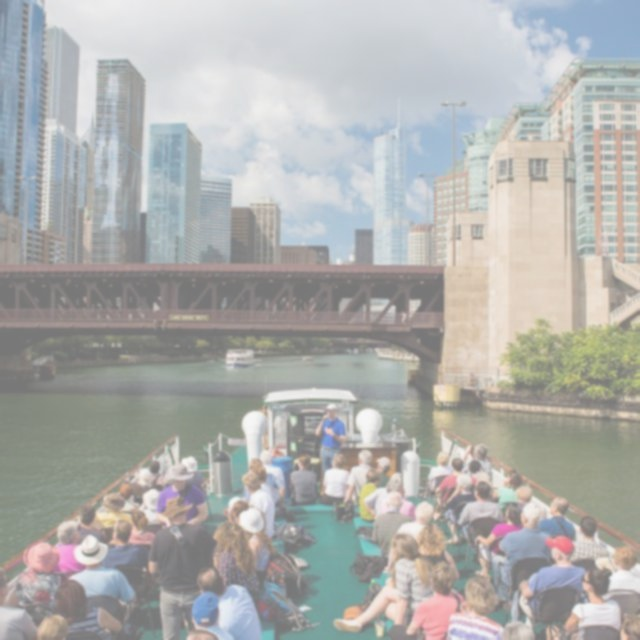pessoa: (332, 530, 439, 635), (146, 496, 219, 638), (486, 500, 554, 610), (510, 534, 588, 626), (545, 564, 625, 638), (66, 534, 140, 610), (194, 564, 266, 638), (404, 560, 468, 638), (52, 578, 124, 638), (472, 500, 525, 580), (12, 540, 64, 618), (445, 574, 507, 638), (154, 462, 210, 530), (370, 489, 418, 567), (212, 520, 262, 592), (386, 499, 436, 571), (454, 478, 504, 542), (0, 574, 46, 638), (101, 518, 151, 574), (415, 522, 461, 581), (444, 472, 480, 546), (240, 470, 276, 540), (313, 402, 347, 476), (244, 508, 274, 590), (432, 456, 480, 507), (190, 589, 236, 639), (315, 452, 356, 507), (567, 514, 611, 562), (54, 520, 88, 580), (258, 449, 288, 517), (535, 494, 577, 542), (342, 447, 375, 507), (362, 471, 404, 517), (378, 476, 418, 522), (602, 548, 638, 598), (286, 452, 318, 507), (95, 492, 137, 532), (490, 471, 528, 511), (72, 503, 108, 545), (426, 449, 456, 499), (357, 468, 383, 525), (247, 456, 274, 500), (126, 508, 156, 547), (462, 442, 494, 476), (33, 614, 72, 639), (136, 488, 162, 524), (247, 462, 273, 497), (125, 464, 156, 490), (500, 618, 538, 639), (180, 456, 204, 488), (119, 479, 145, 507), (372, 456, 393, 490), (226, 494, 248, 524), (140, 460, 162, 488), (54, 293, 88, 311), (466, 458, 485, 488), (618, 612, 639, 639), (183, 627, 220, 639), (513, 484, 535, 504), (150, 481, 169, 493), (272, 448, 286, 458), (398, 308, 407, 322)
